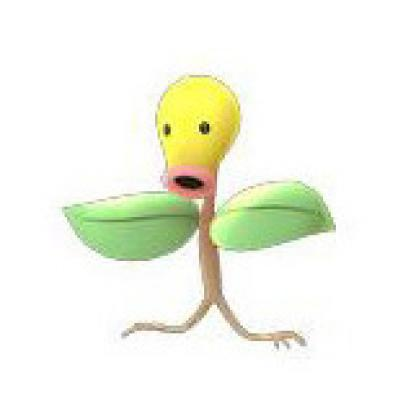Bellsprout: (63, 64, 349, 350)
